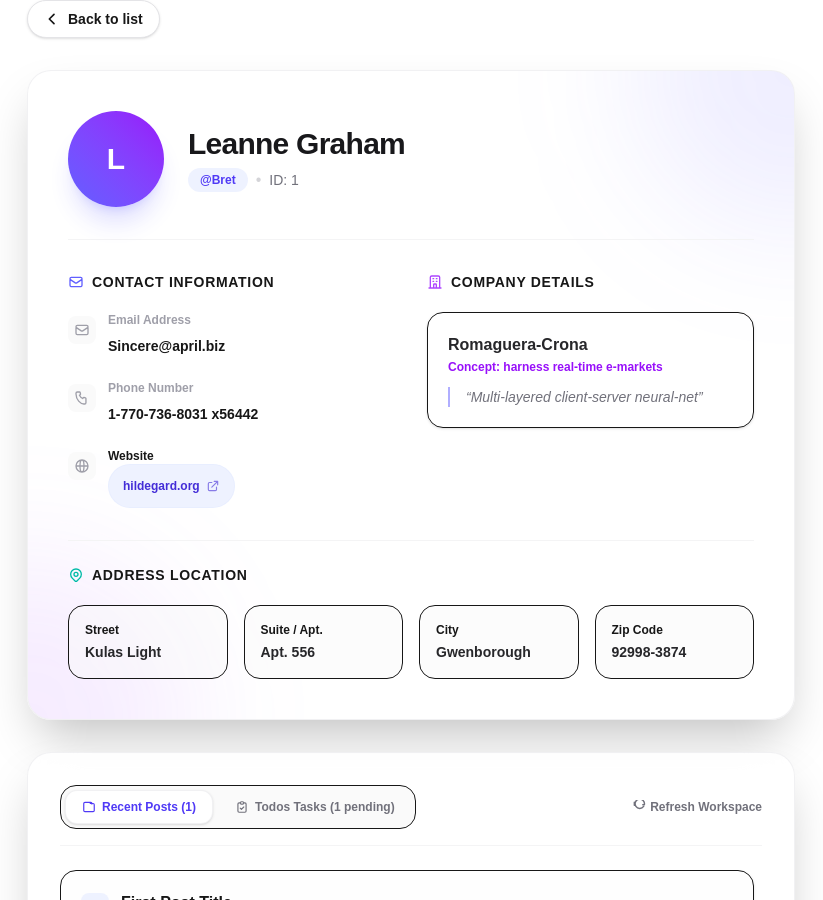
it: UserDetailsClient › toggles to todos tab and displays todo items with status filters
This screenshot has width=823, height=900.
Click the tab "Todos Tasks (1 pending)" at (315, 807), box [219,791,411,823]
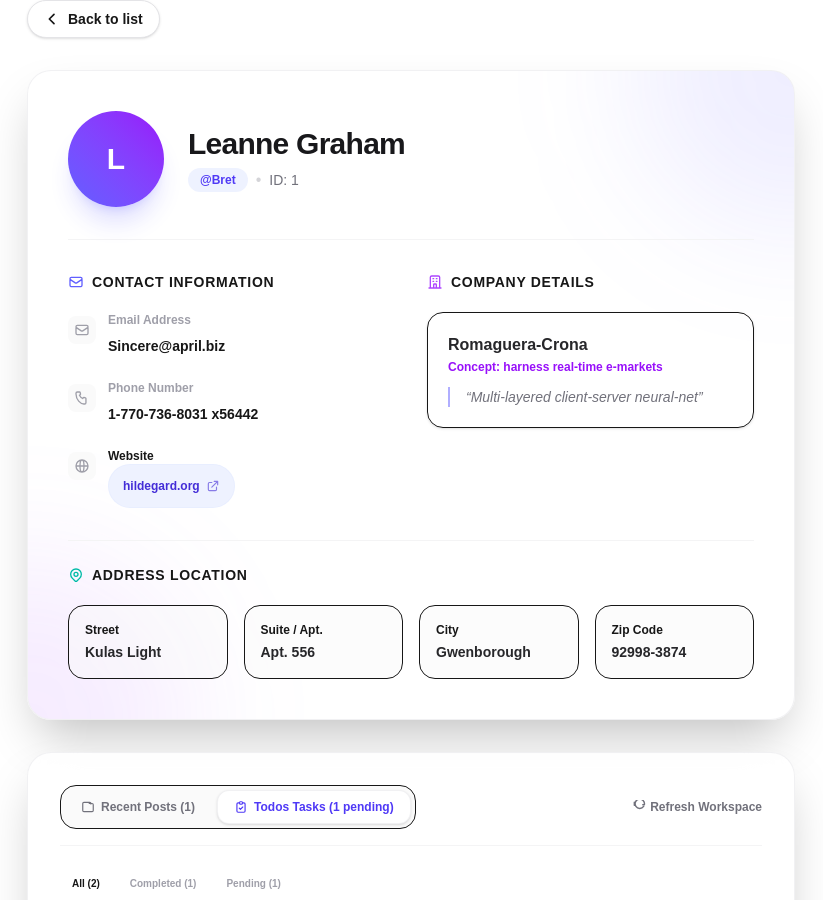
Check: the button "All (2)" is shown, box [60,870,112,897]
Check: the button "Completed (1)" is shown, box [118,870,208,897]
Check: the button "Pending (1)" is shown, box [214,870,293,897]
